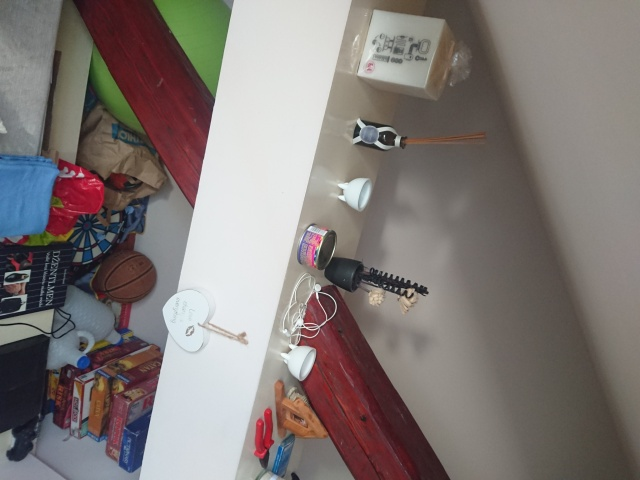Giana Tuna Salad Mexico 185g: (294, 221, 339, 273)
